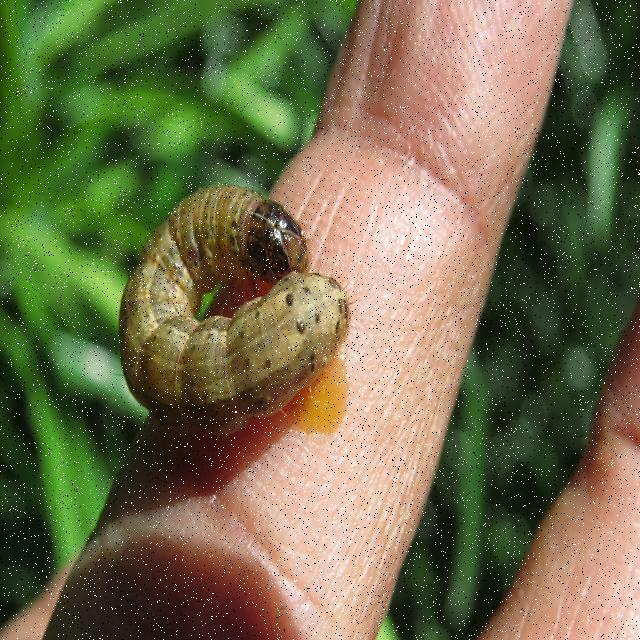army worm: (99, 130, 379, 452)
